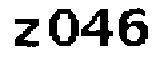0: (45, 5, 80, 49)
4: (81, 6, 116, 51)
6: (118, 8, 149, 48)
z: (11, 15, 43, 51)
